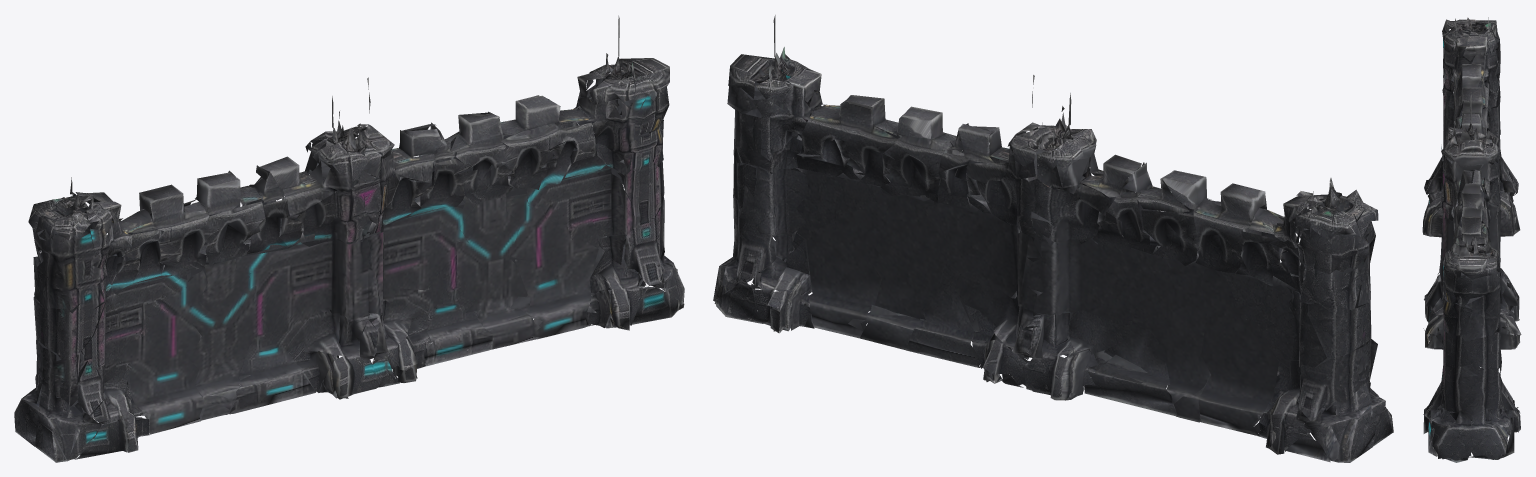
File: sector12PerimeterWall_medium.png.glb
3 views of the same model, side by side, from view 1: azimuth 30°, elevation 25°; view 2: azimuth 150°, elevation 25°; view 3: azimuth 270°, elevation 25° (orthographic). The views are drawn at different scales.
Visible parts, largest first — view 1: Mesh_0.001; view 2: Mesh_0.001; view 3: Mesh_0.001.
Boxes of the visible parts, left/top/right/bottom form: Mesh_0.001: left=14, top=15, right=684, bottom=462; Mesh_0.001: left=713, top=15, right=1393, bottom=462; Mesh_0.001: left=1422, top=17, right=1521, bottom=462.
Size of the model in its own units: 1.87 by 0.8194 by 0.3048.
1 material, 1 textured.
